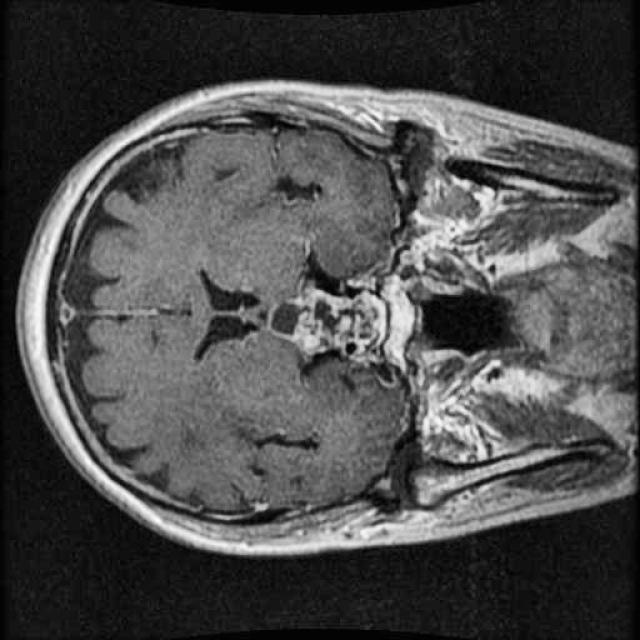Tumor: (253, 275, 406, 366)
